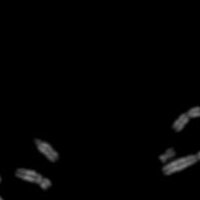chromosome: (163, 145, 200, 175), (15, 166, 50, 191), (172, 105, 200, 131), (34, 138, 59, 161), (159, 147, 174, 160), (0, 195, 33, 200)
